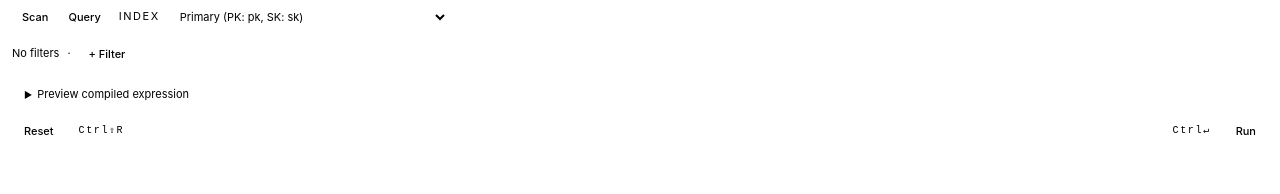
Test: QueryBuilder › Preview disclosure › collapses again on second toggle click
Click the button with test id "preview-toggle": (113, 94) [12,82,1268,106]
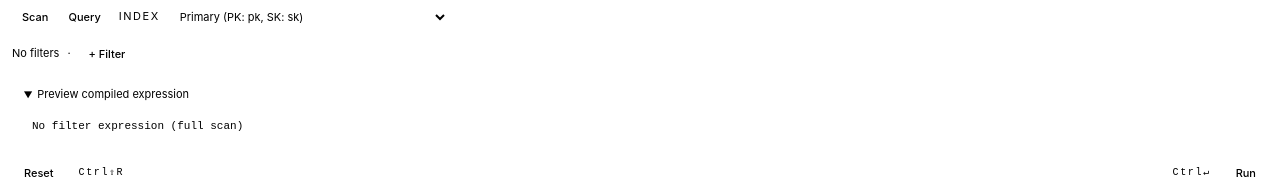
Expected: the element with test id "preview-body" is shown, [32,120,243,132]
Click the button with test id "preview-toggle": (113, 94) [12,82,1268,106]
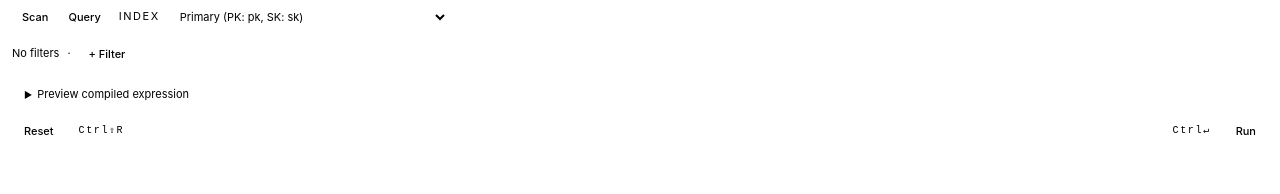
Expected: the element with test id "preview-body" is gone
